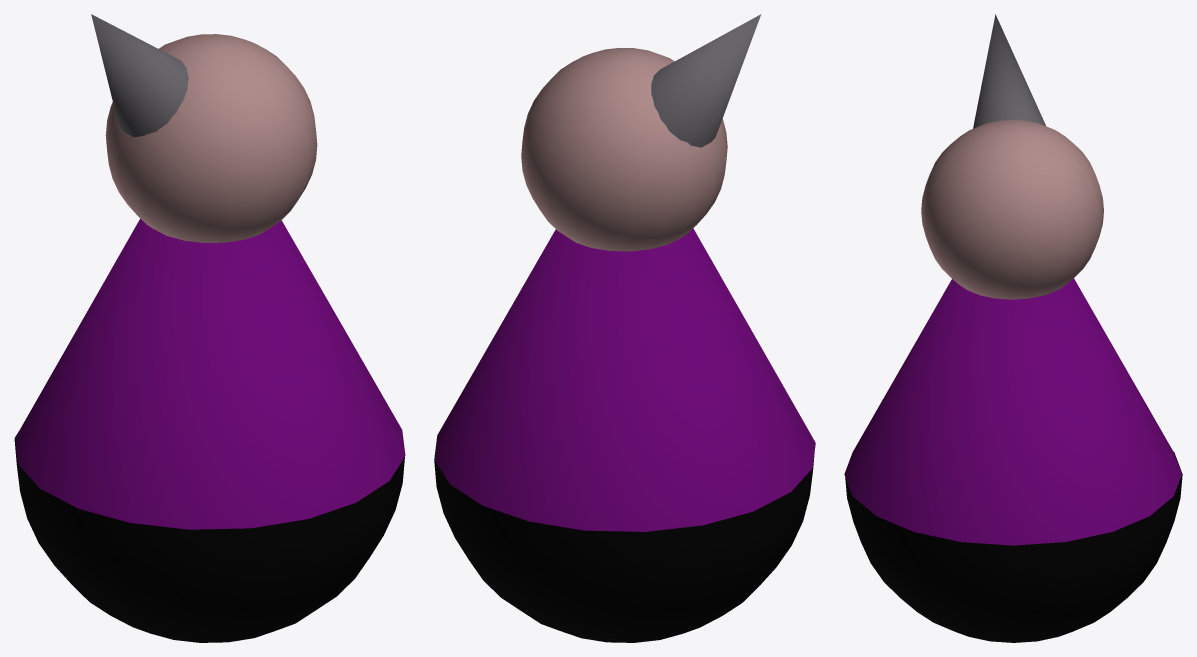
Rendered from Player_export.fbx.
3 renders of one model, left to right at view 1: azimuth 30°, elevation 25°; view 2: azimuth 150°, elevation 25°; view 3: azimuth 270°, elevation 25°, orthographic. The views are drawn at different scales.
Parts seen in each view (by area): view 1: polySurface5; view 2: polySurface5; view 3: polySurface5.
Part boxes in pixels (x1,y1,x2,y2): polySurface5: (14, 14, 405, 642); polySurface5: (434, 14, 815, 642); polySurface5: (844, 14, 1182, 642).
Bounding box in the file's own units: 4 × 7.31 × 4.01.
